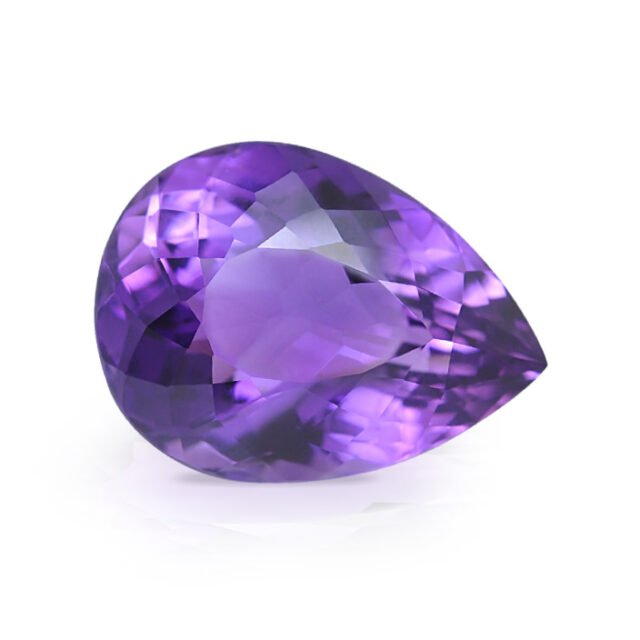Amethyst: (93, 137, 551, 484)
